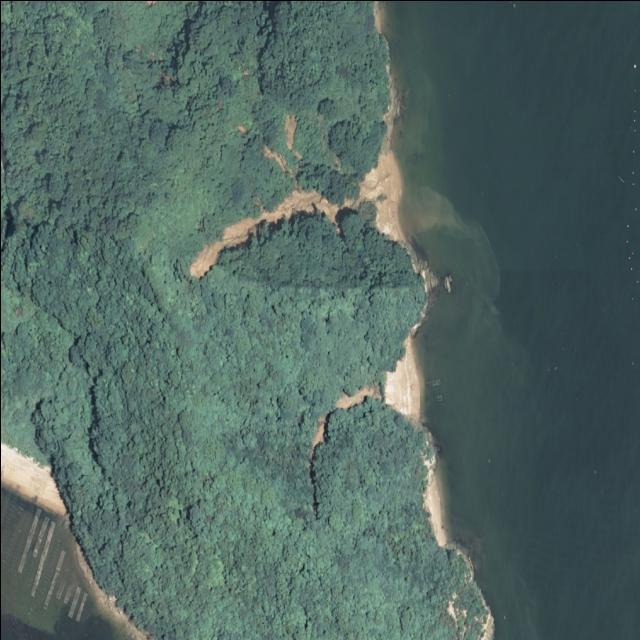landslide: (189, 151, 400, 277), (383, 333, 420, 420), (375, 202, 404, 241), (334, 385, 380, 409), (312, 416, 325, 455)
